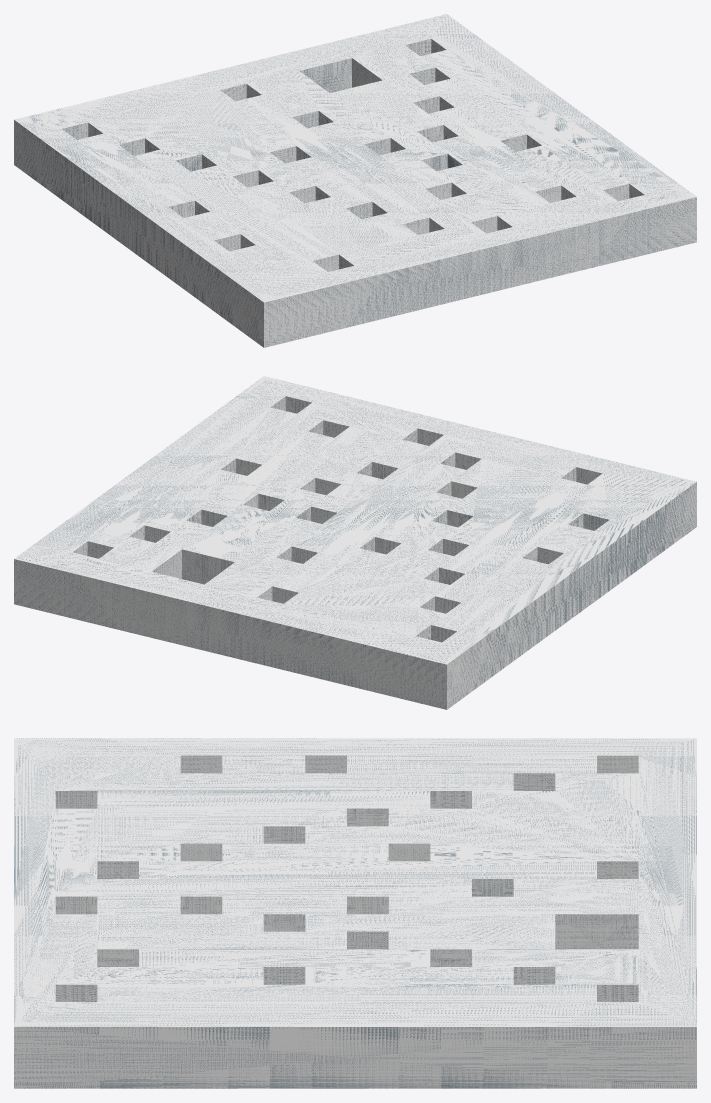
The picture shows the model from 3 angles, top to bottom: view 1: azimuth 30°, elevation 25°; view 2: azimuth 150°, elevation 25°; view 3: azimuth 270°, elevation 25°; orthographic projection. The views are drawn at different scales.
Visible parts, largest first — view 1: Model; view 2: Model; view 3: Model.
Part boxes in pixels (bbox=[...]): Model: bbox=[14, 14, 696, 347]; Model: bbox=[14, 376, 696, 709]; Model: bbox=[14, 738, 696, 1088].
Size of the model in its own units: 5 by 0.5 by 5.
